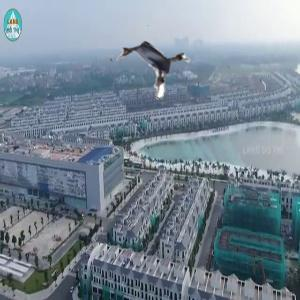drone: (109, 23, 194, 108)
